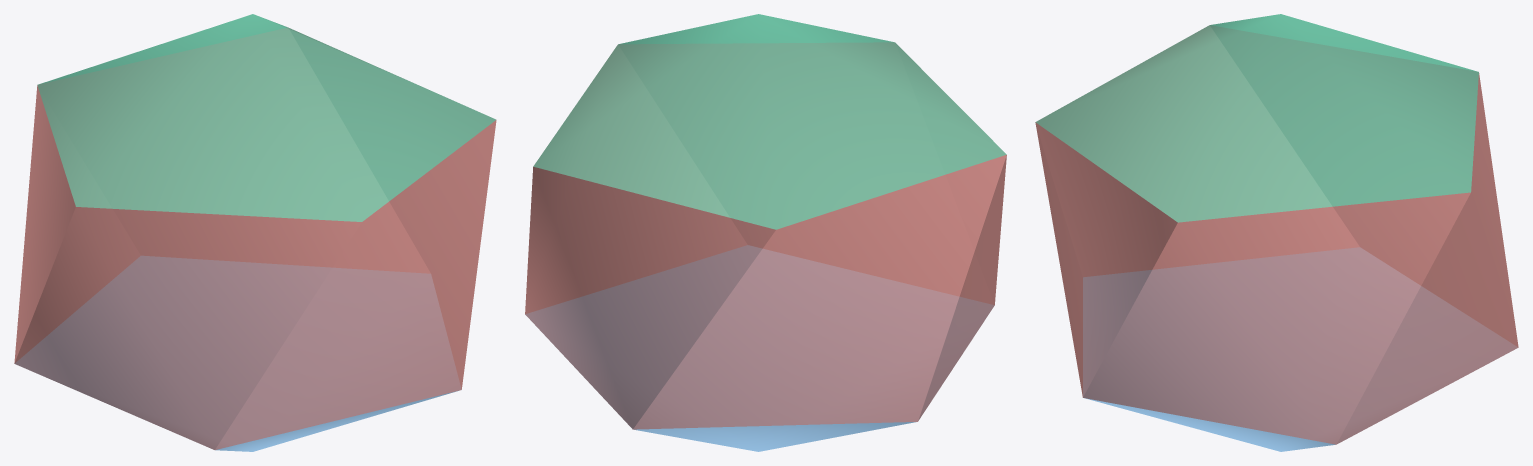
3 renders of one model, left to right at view 1: azimuth 30°, elevation 25°; view 2: azimuth 150°, elevation 25°; view 3: azimuth 270°, elevation 25°, orthographic.
Bounding box in the file's own units: 6.1 × 6.1 × 6.1.
